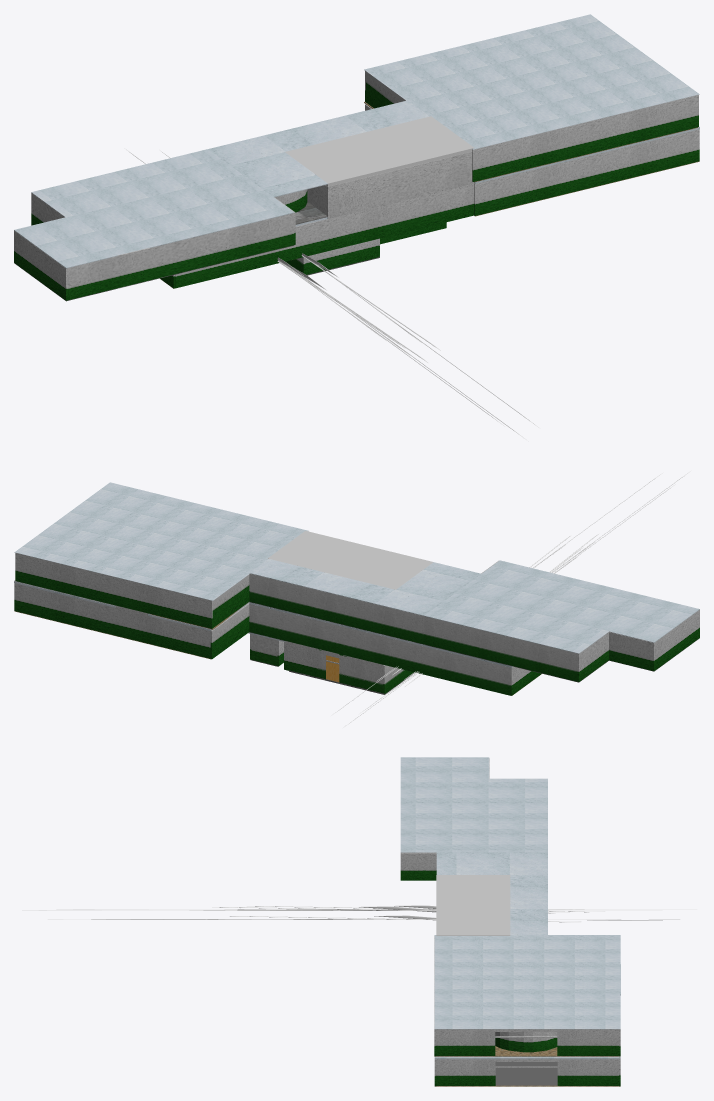
Rendered from Escola-Cenario.fbx.
The picture shows the model from 3 angles, top to bottom: view 1: azimuth 30°, elevation 25°; view 2: azimuth 150°, elevation 25°; view 3: azimuth 270°, elevation 25°; orthographic projection. The views are drawn at different scales.
Parts seen in each view (by area): view 1: Piso-Andar2.005, Piso-Andar3.006, Parede.027, Parede.051, Parede.075, Parede.035, Piso-Andar3.001, Teto-Teatro, Parede.019, Parede.057, Parede.009, Parede.068; view 2: Piso-Andar2.005, Piso-Andar3.006, Parede.018, Parede.034, Parede.074, Piso-Andar3.001, Parede.048, Teto-Teatro, Parede.046, Parede.002, Parede.053, Parede.057 (+8 smaller); view 3: Piso-Andar2.005, Piso-Andar3.006, Piso-Andar3.001, Teto-Teatro, Parede.036, Parede.076, Painel_Vidro.004, Parede.059, Parede.045, Pernas2.001, Pernas2.002, Pernas2 (+2 smaller).
Part boxes in pixels (x1,y1,x2,y2): Piso-Andar2.005: (364, 14, 699, 149); Piso-Andar3.006: (14, 149, 294, 268); Parede.027: (175, 183, 474, 288); Parede.051: (67, 213, 294, 300); Parede.075: (472, 95, 698, 181); Parede.035: (474, 129, 699, 215); Piso-Andar3.001: (208, 100, 429, 197); Teto-Teatro: (285, 116, 473, 186); Parede.019: (327, 152, 474, 218); Parede.057: (14, 231, 66, 300); Parede.009: (305, 239, 378, 274); Parede.068: (366, 71, 405, 108); Piso-Andar2.005: (14, 482, 308, 600); Piso-Andar3.006: (424, 560, 699, 653); Parede.018: (249, 603, 511, 695); Parede.034: (14, 580, 211, 658); Parede.074: (15, 553, 212, 628); Piso-Andar3.001: (249, 559, 481, 615); Parede.048: (250, 573, 424, 644); Teto-Teatro: (268, 531, 433, 589); Parede.046: (424, 616, 577, 681); Parede.002: (284, 641, 384, 693); Parede.053: (609, 632, 654, 670); Parede.057: (654, 610, 699, 670); Piso-Andar2.005: (434, 935, 620, 1029); Piso-Andar3.006: (400, 757, 547, 852); Piso-Andar3.001: (436, 852, 547, 935); Teto-Teatro: (436, 875, 510, 935); Parede.036: (436, 1059, 618, 1085); Parede.076: (436, 1029, 618, 1055); Painel_Vidro.004: (495, 1062, 557, 1085); Parede.059: (495, 1032, 557, 1052); Parede.045: (400, 852, 436, 880); Pernas2.001: (48, 915, 679, 922); Pernas2.002: (22, 906, 662, 913); Pernas2: (56, 905, 696, 912).
Bounding box in the file's own units: 8185 × 1214 × 8729.
